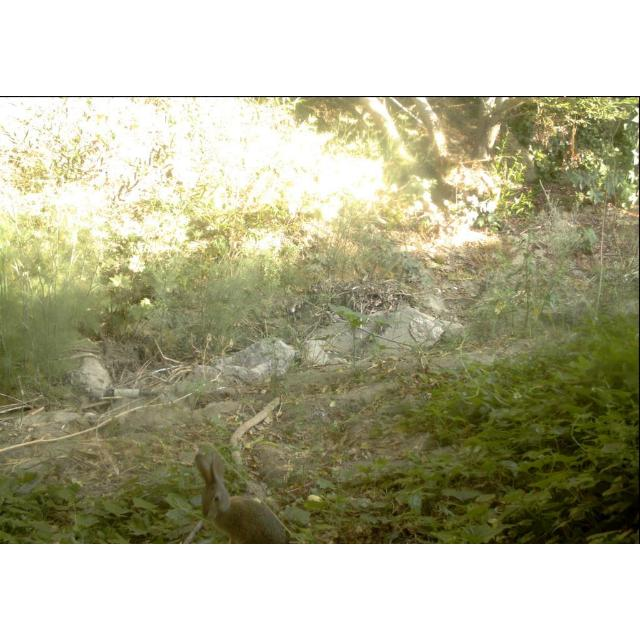animals: (192, 450, 302, 544)
